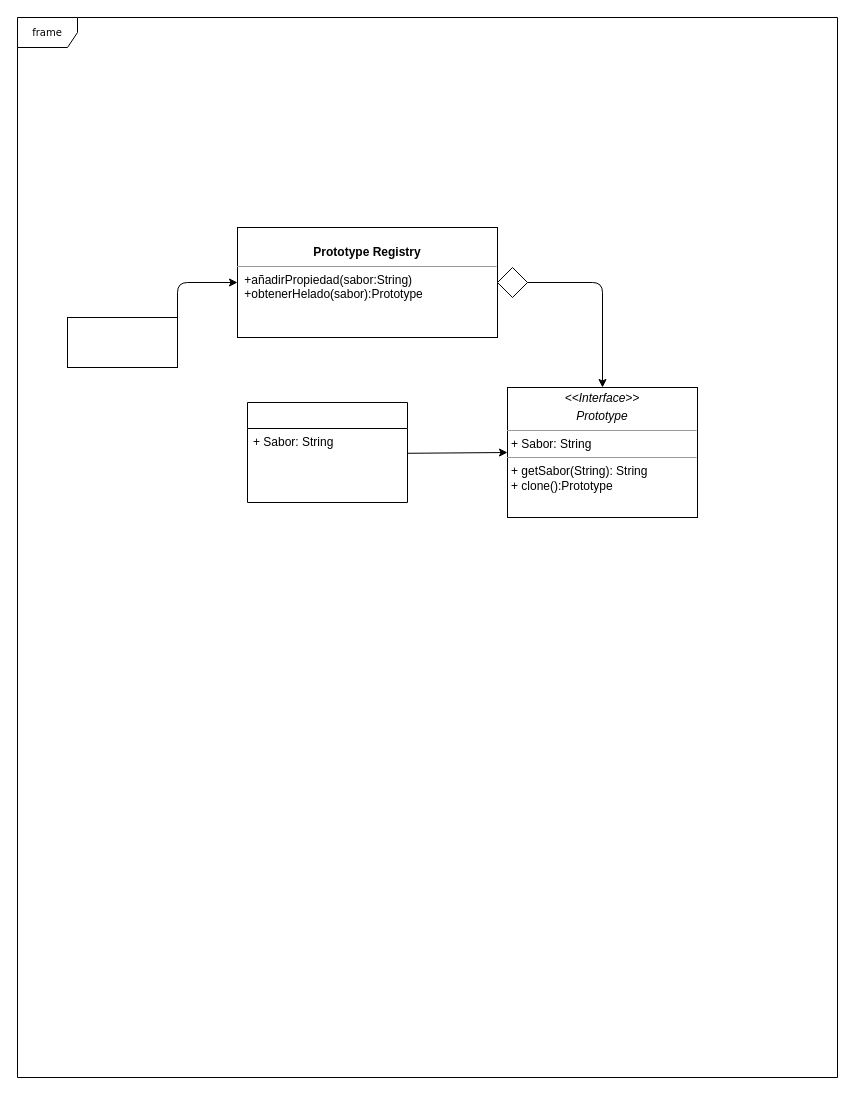
Image size: 855x1095. Some labels were removed from this diagram. Each missing label, with the box of its shape:
Helado: (246, 402, 408, 502)
Menú principal: (66, 316, 178, 368)
